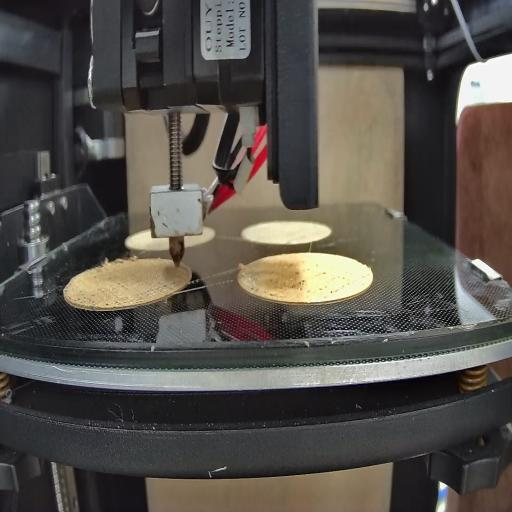under_extrusion: (66, 272, 170, 308), (244, 278, 360, 300), (286, 258, 332, 275)
